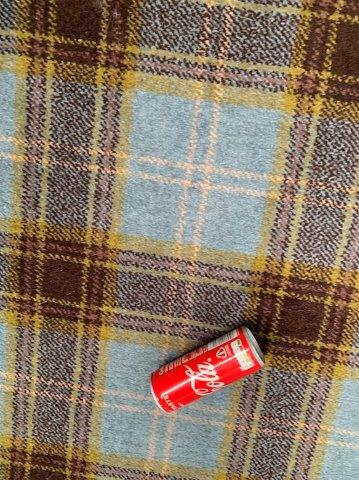kaleng: (151, 327, 263, 412)
